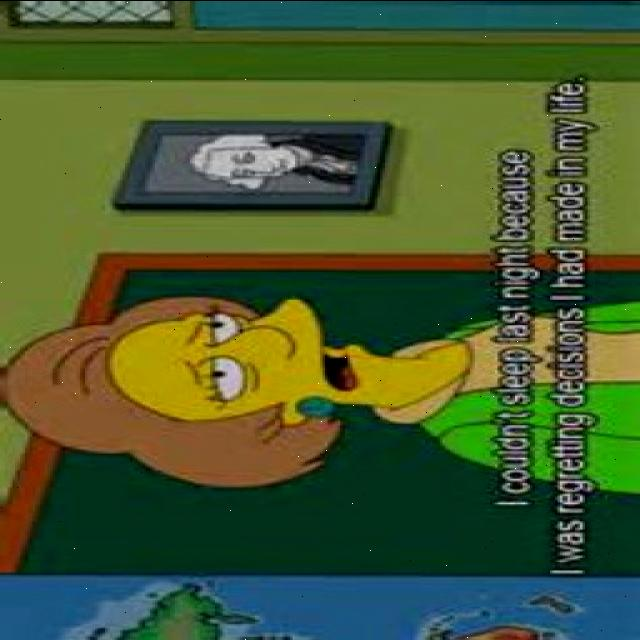Edna Krappel: (0, 291, 468, 491)
